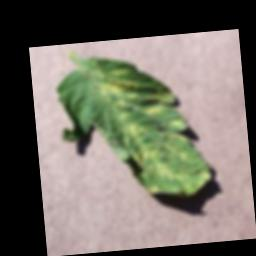Leaf_Mold: (91, 49, 214, 205)
